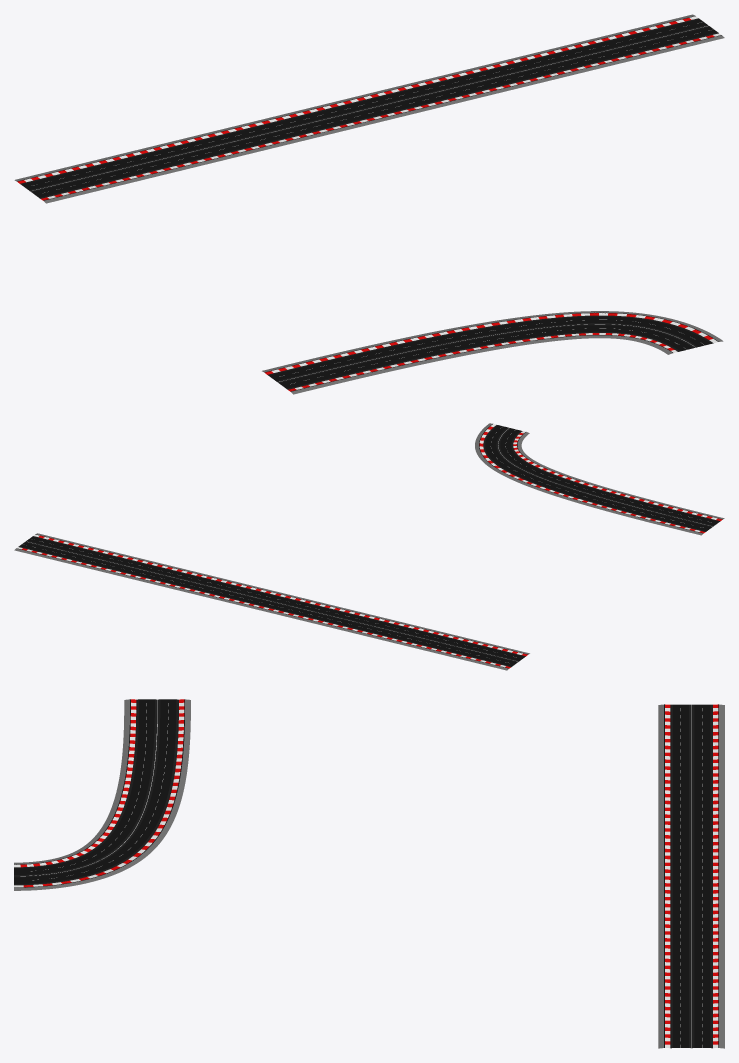
The model's file is S0.2c3-3r1-triway.glb.
The picture shows the model from 3 angles, top to bottom: view 1: azimuth 30°, elevation 25°; view 2: azimuth 150°, elevation 25°; view 3: azimuth 270°, elevation 25°; orthographic projection. The views are drawn at different scales.
Parts seen in each view (by area): view 1: Grid.002, Grid; view 2: Grid.002, Grid; view 3: Grid.002, Grid.
Boxes of the visible parts, <box> form: Grid.002: <box>14,14,724,203</box>; Grid: <box>262,311,723,394</box>; Grid.002: <box>14,533,529,670</box>; Grid: <box>475,423,724,535</box>; Grid.002: <box>658,704,724,1048</box>; Grid: <box>14,699,190,890</box>.
Size of the model in its own units: 309 by 0.31 by 266.
